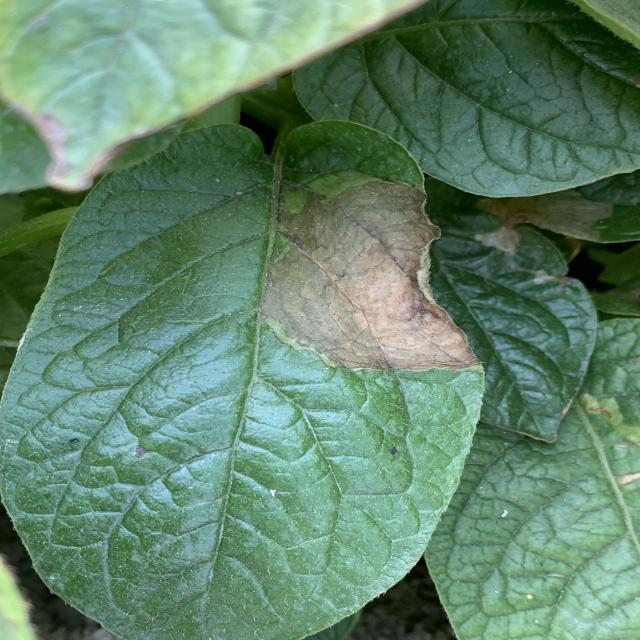lateblight: (260, 171, 478, 370)
